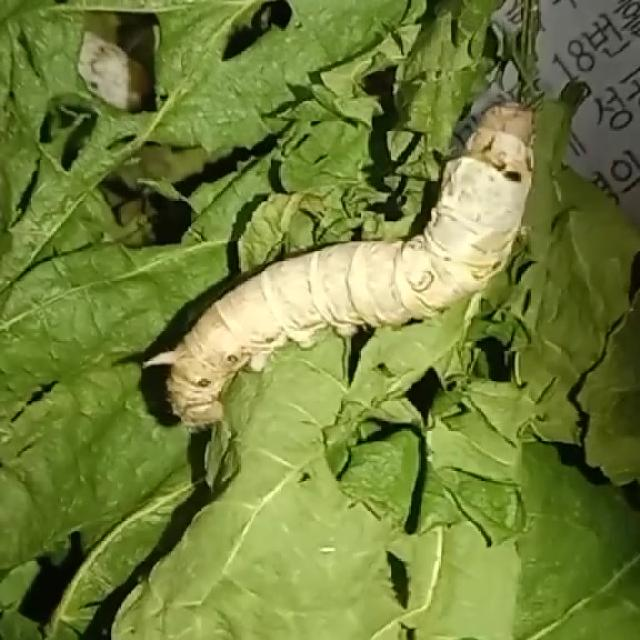Grasserie: (116, 72, 547, 457)
